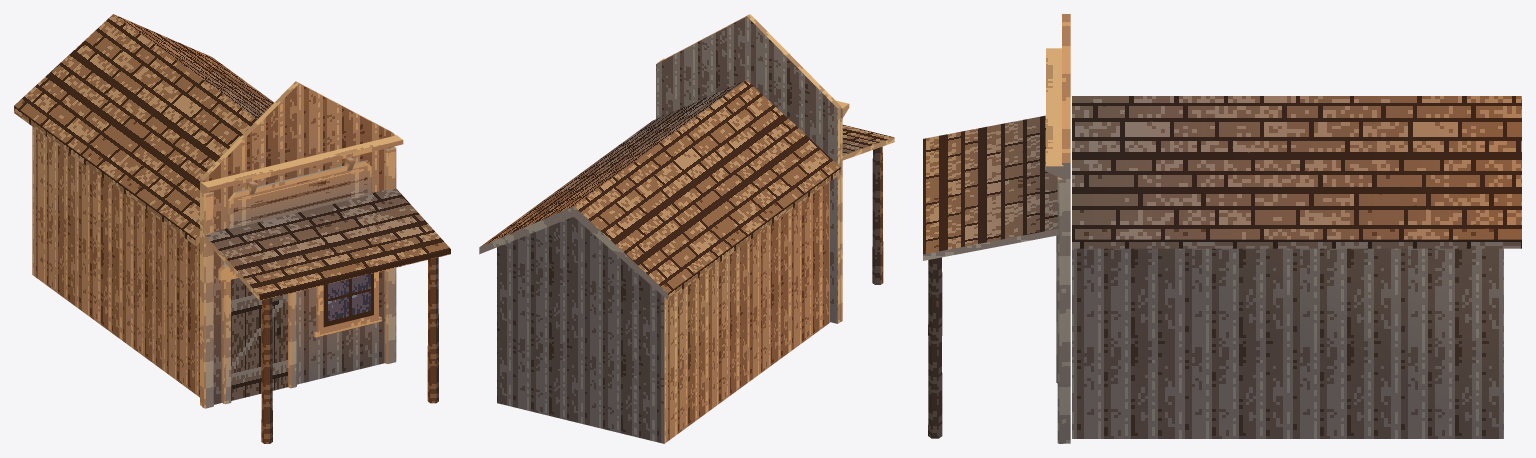
Rendered from wtown.facade__d_gabled.glb.
The picture shows the model from 3 angles, left to right: view 1: azimuth 30°, elevation 25°; view 2: azimuth 150°, elevation 25°; view 3: azimuth 270°, elevation 25°; orthographic projection. The views are drawn at different scales.
Parts seen in each view (by area): view 1: kit_roof, kit_body, kit_porch, kit_front, kit_card_panes, kit_trim, kit_windows; view 2: kit_body, kit_roof, kit_front, kit_porch, kit_trim; view 3: kit_body, kit_roof, kit_porch, kit_trim, kit_front.
Boxes of the visible parts, x1,y1,x2,y2 form: kit_roof: (14, 14, 274, 245); kit_body: (32, 126, 199, 397); kit_porch: (204, 188, 450, 443); kit_front: (200, 81, 394, 406); kit_card_panes: (231, 165, 373, 400); kit_trim: (200, 135, 403, 408); kit_windows: (313, 272, 381, 337); kit_body: (497, 182, 829, 443); kit_roof: (479, 80, 840, 299); kit_front: (656, 14, 841, 323); kit_porch: (842, 125, 894, 284); kit_trim: (657, 58, 849, 321); kit_body: (1072, 248, 1503, 438); kit_roof: (1072, 96, 1521, 248); kit_porch: (923, 115, 1058, 438); kit_trim: (1046, 48, 1063, 443); kit_front: (1062, 14, 1070, 443).
Size of the model in its own units: 3.94 by 5.7 by 8.32.
Materials: 7 (7 with a texture image).
